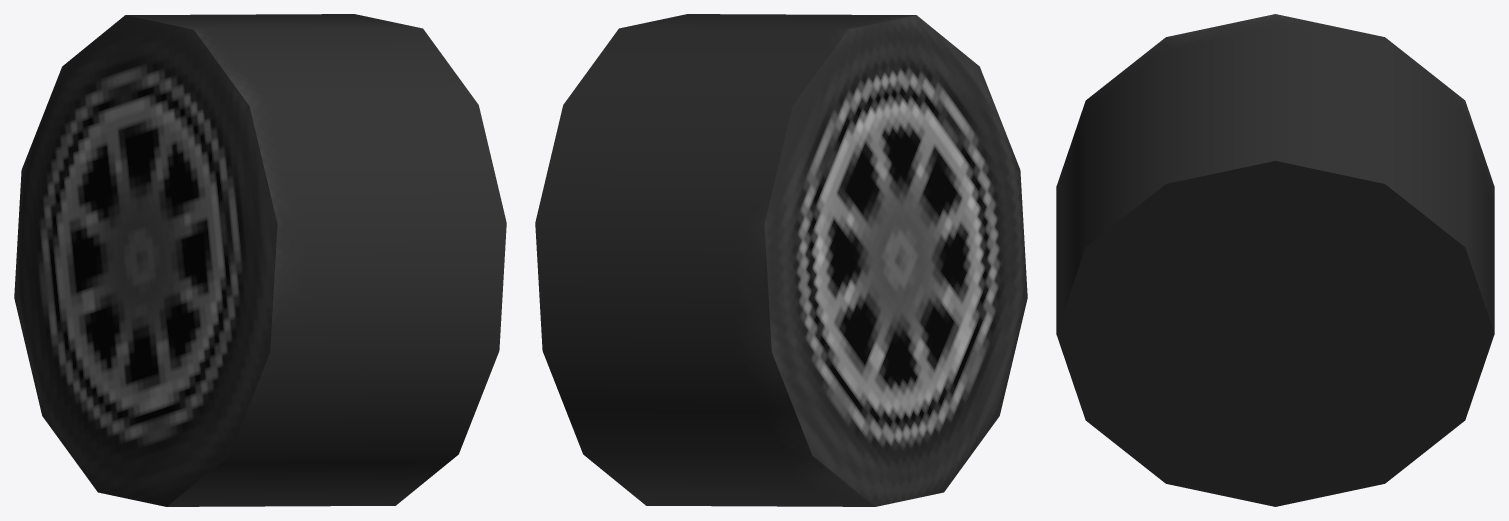
The model's file is wheel_tuning_RR.fbx.
The picture shows the model from 3 angles, left to right: view 1: azimuth 30°, elevation 25°; view 2: azimuth 150°, elevation 25°; view 3: azimuth 270°, elevation 25°; orthographic projection. The views are drawn at different scales.
Visible parts, largest first — view 1: wheels_tuning_RR; view 2: wheels_tuning_RR; view 3: wheels_tuning_RR.
Boxes of the visible parts, x1,y1,x2,y2 form: wheels_tuning_RR: (14,14,506,506); wheels_tuning_RR: (535,14,1027,506); wheels_tuning_RR: (1056,14,1494,506).
Bounding box in the file's own units: 92.77 × 135 × 123.
